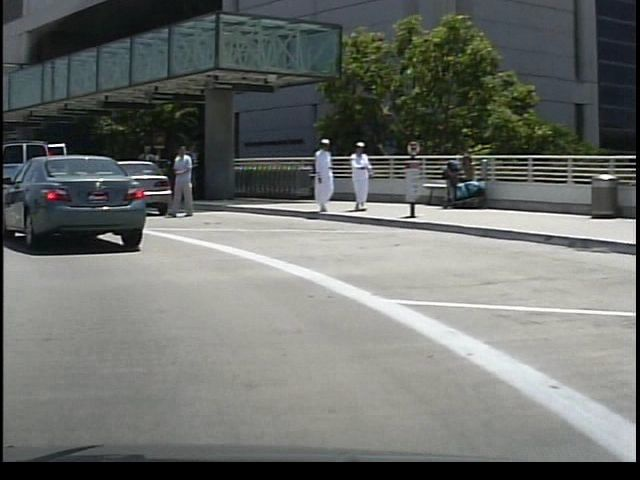person: (165, 139, 198, 222), (343, 136, 374, 214), (307, 134, 332, 218)
